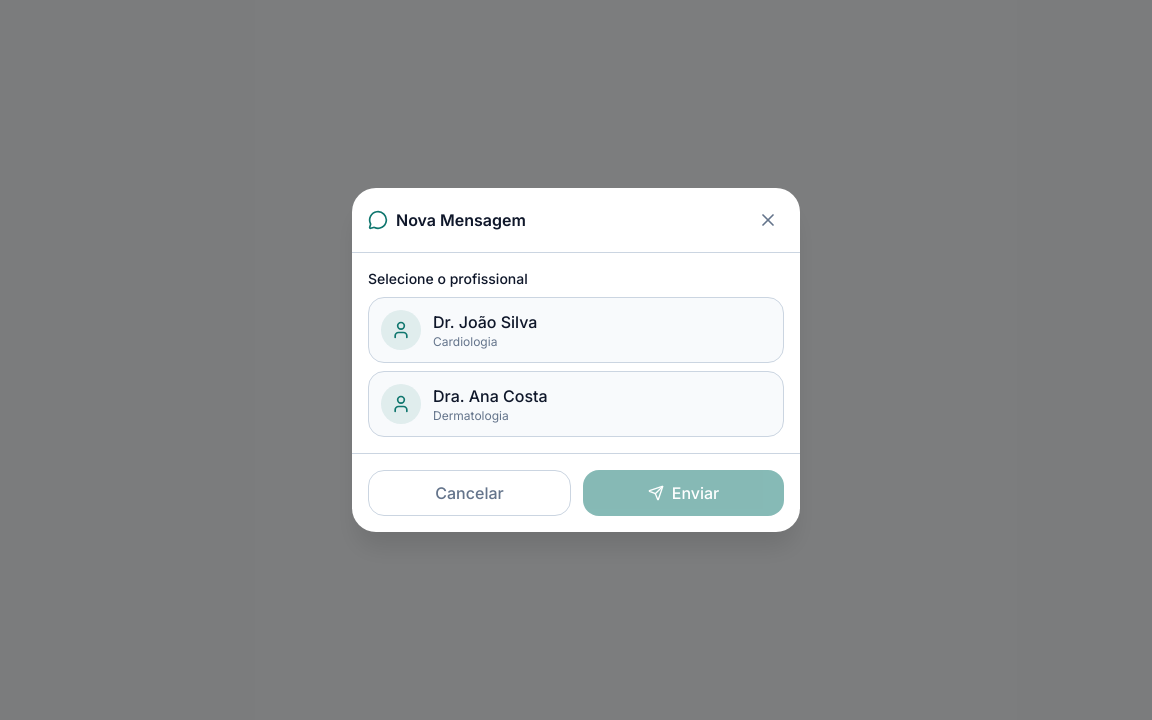
Test: NewConversationModal › form submission › should enable send button when professional selected and message entered
The image size is (1152, 720).
Select professional
Click the button "Dr. João Silva Cardiologia" at (401, 330), box [368,297,784,363]
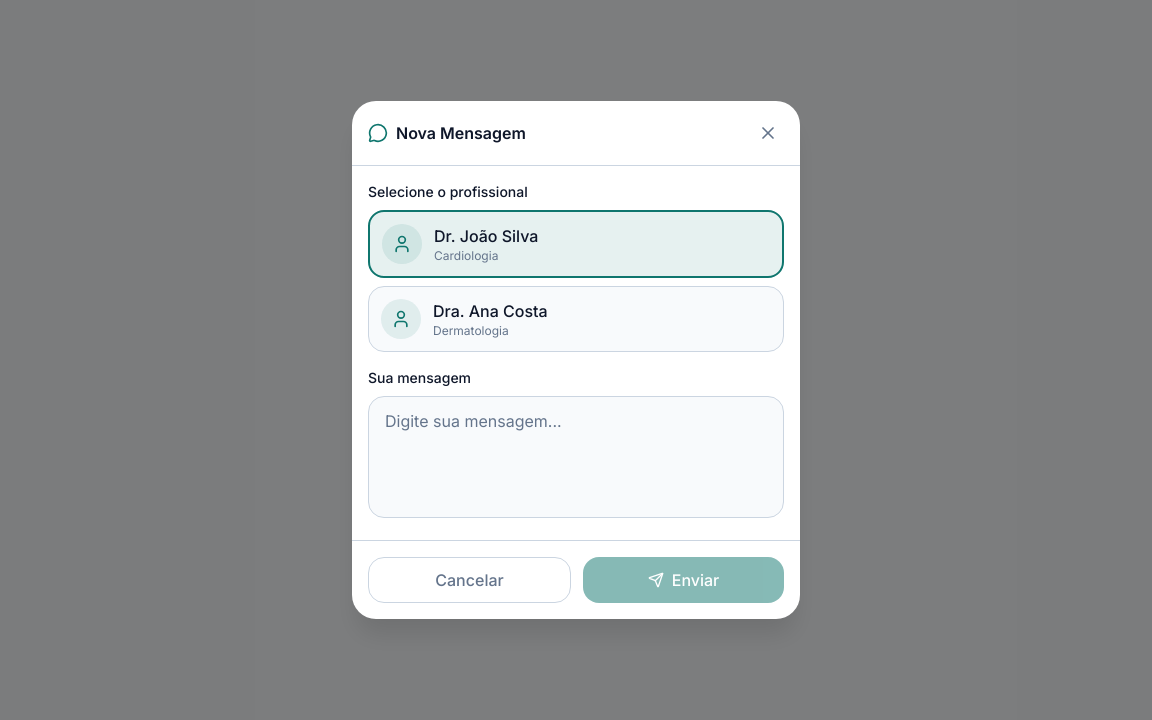
Enter message
Type "Test message" into the text box with placeholder "Digite sua mensagem..." at (576, 457), box [368,396,784,518]
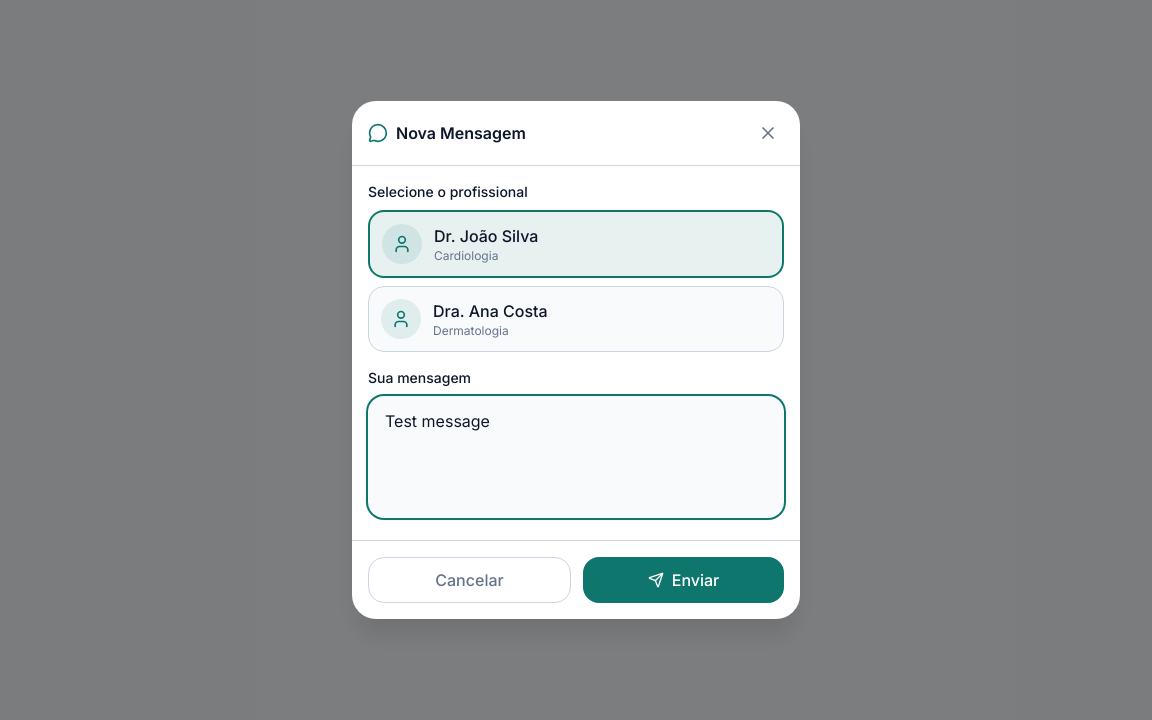
Now the button "Enviar" is enabled, box [583,557,784,603]
